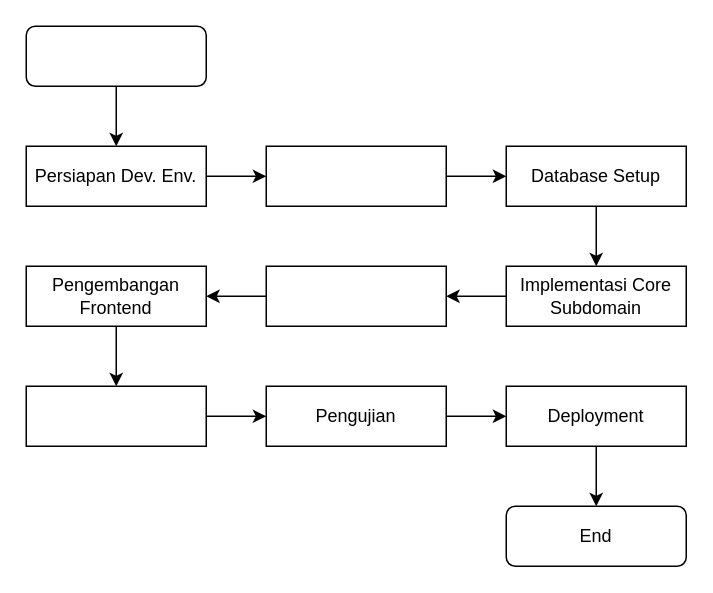
The diagram is 713 pixels wide and 593 high, and some of its shapes have lost their labels. Each missing label, with the centre of its shape:
Backend Setup: pixel 355 175
Implementasi Deadline Alignment: pixel 355 295
Implementasi Project Data Storage: pixel 115 415
Start: pixel 115 55
